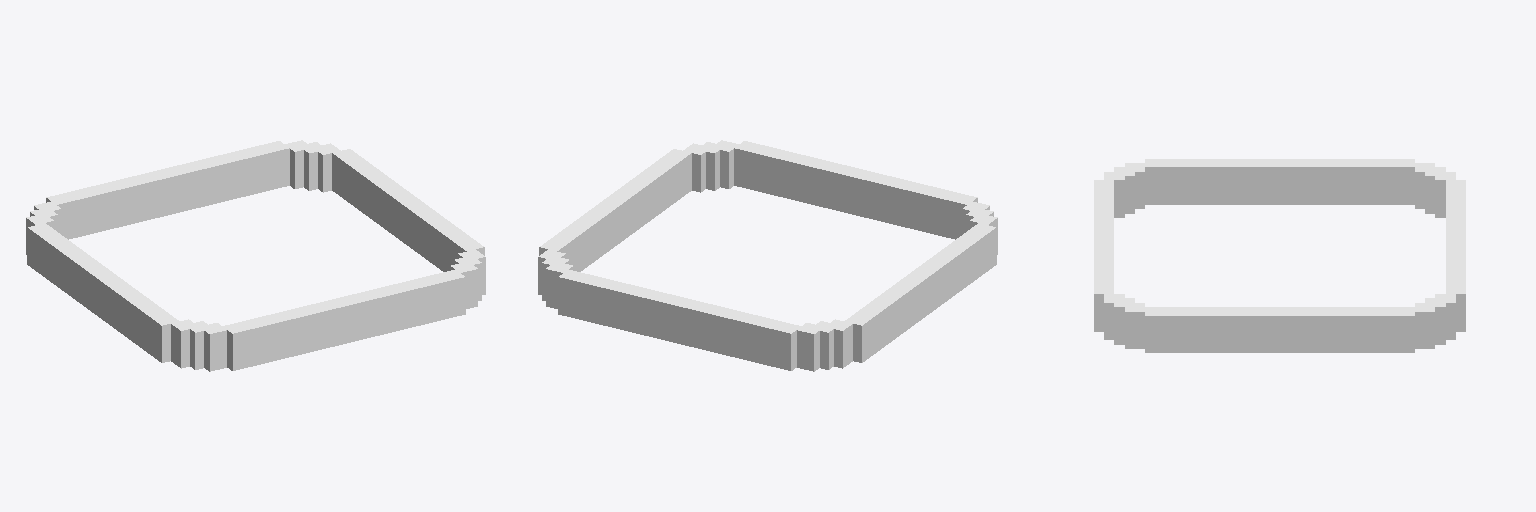
The model's file is objeSele.obj.
The picture shows the model from 3 angles: view 1: azimuth 30°, elevation 25°; view 2: azimuth 150°, elevation 25°; view 3: azimuth 270°, elevation 25°; orthographic projection.
Parts seen in each view (by area): view 1: object 1; view 2: object 1; view 3: object 1.
Part boxes in pixels (left/top/right/bottom): object 1: left=26, top=140, right=485, bottom=371; object 1: left=538, top=140, right=997, bottom=371; object 1: left=1094, top=159, right=1465, bottom=352.
Bounding box in the file's own units: 3.6 × 0.4 × 3.6.